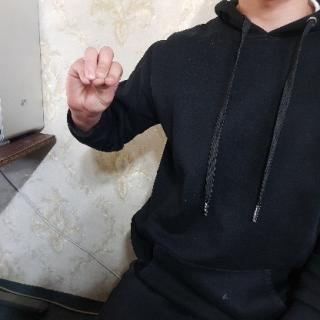HA: (63, 41, 127, 119)
